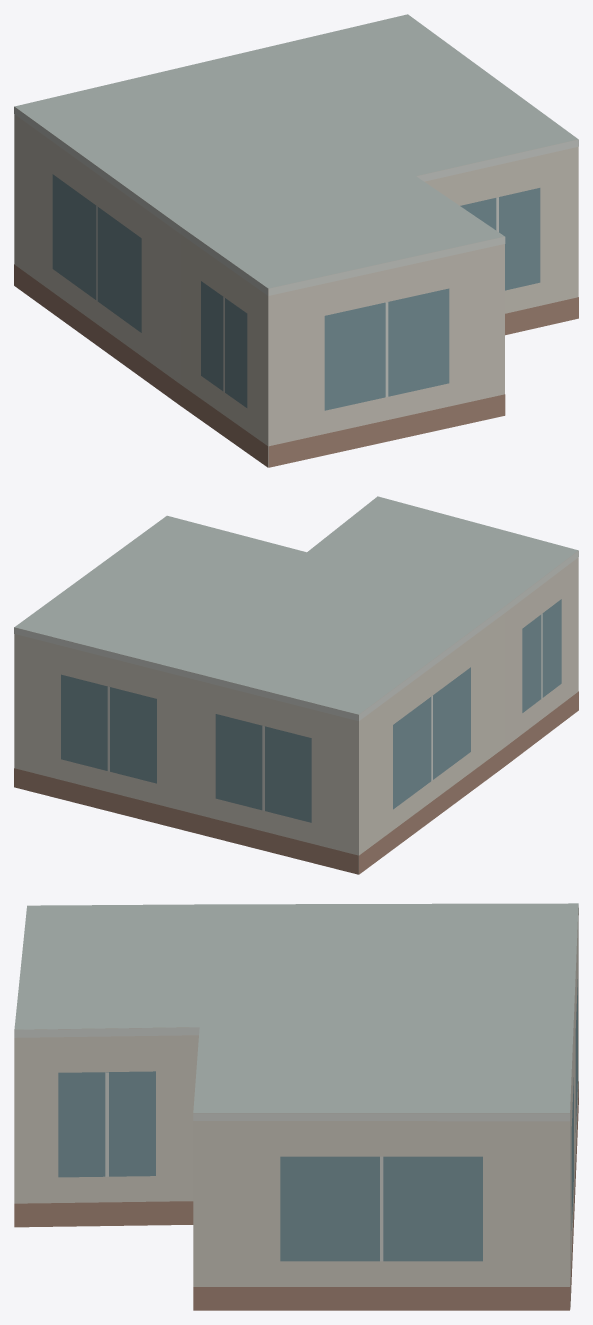
File: survey-upis-32998020.glb
The picture shows the model from 3 angles, top to bottom: view 1: azimuth 30°, elevation 25°; view 2: azimuth 150°, elevation 25°; view 3: azimuth 270°, elevation 25°; orthographic projection. The views are drawn at different scales.
Visible parts, largest first — view 1: survey-upis-32998020.tmp; view 2: survey-upis-32998020.tmp; view 3: survey-upis-32998020.tmp.
Part boxes in pixels (x1,y1,x2,y2): survey-upis-32998020.tmp: (14, 14, 578, 467); survey-upis-32998020.tmp: (14, 496, 578, 874); survey-upis-32998020.tmp: (14, 903, 578, 1310).
Bounding box in the file's own units: 6.96 × 3.05 × 7.91.
